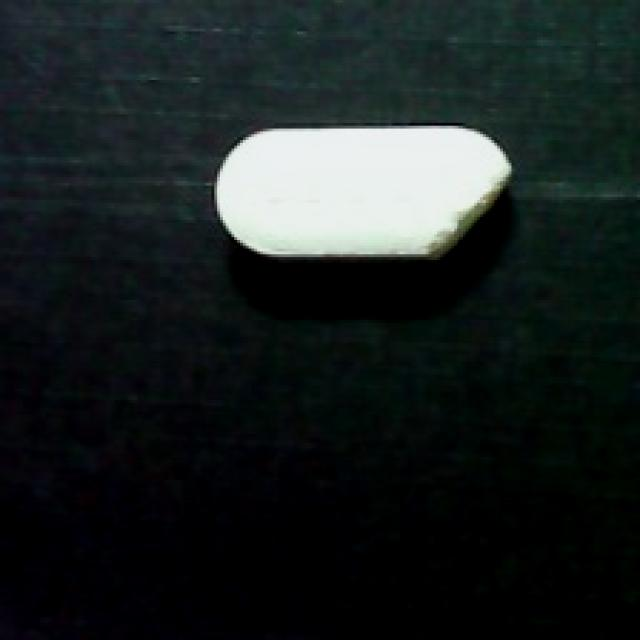defected: (211, 117, 523, 283)
